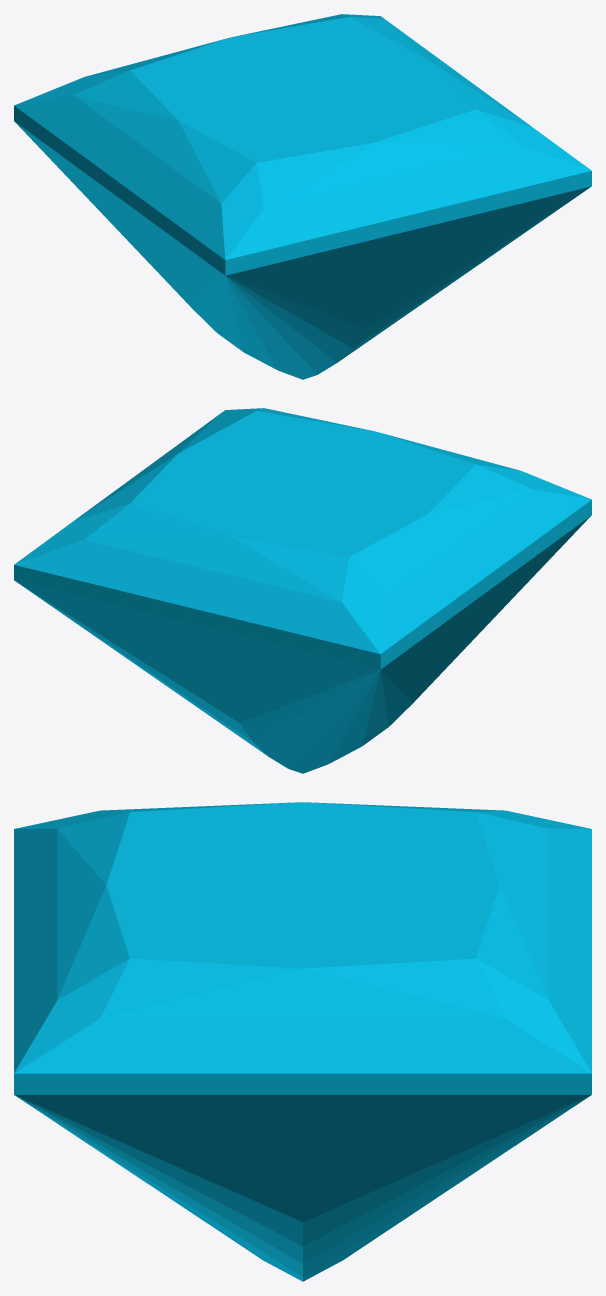
Rendered from Head_Hidden Halo_Princess_3.0ct_Diamond.glb.
The picture shows the model from 3 angles, top to bottom: view 1: azimuth 30°, elevation 25°; view 2: azimuth 150°, elevation 25°; view 3: azimuth 270°, elevation 25°; orthographic projection. The views are drawn at different scales.
Size of the model in its own units: 0.0078 by 0.00589 by 0.00779.
